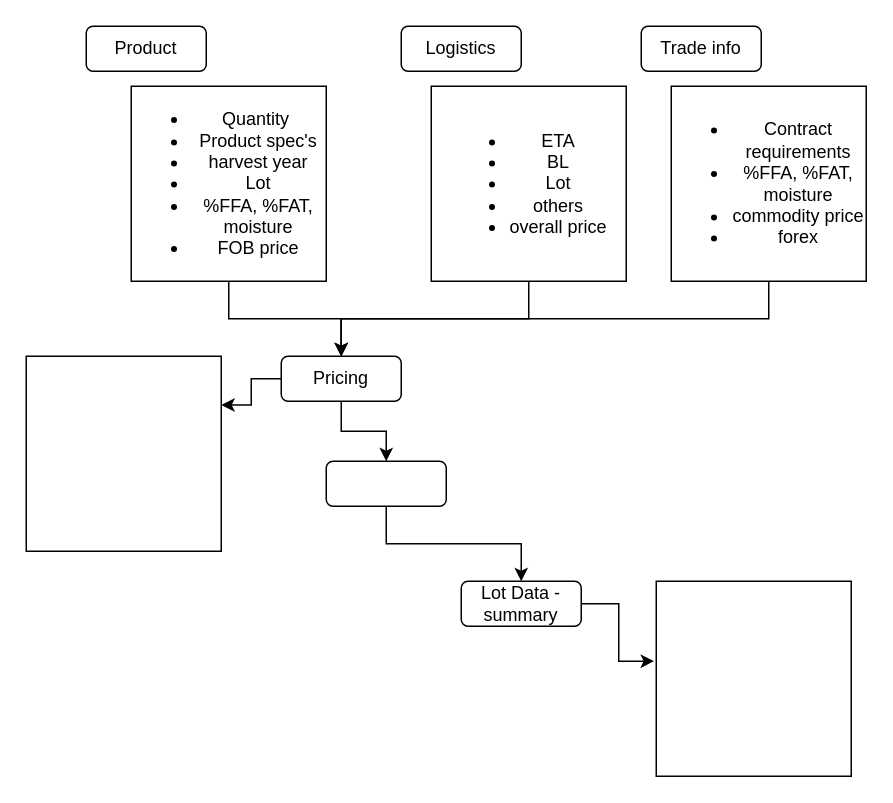
This 893x803 diagram has some shape labels left out. The centre of each missing label's shape, as x and y in pixels:
BL naviera numero de lote en origen descripcion del producto: the point at 753,678
excecute order: the point at 385,483
pricing report: the point at 123,453
